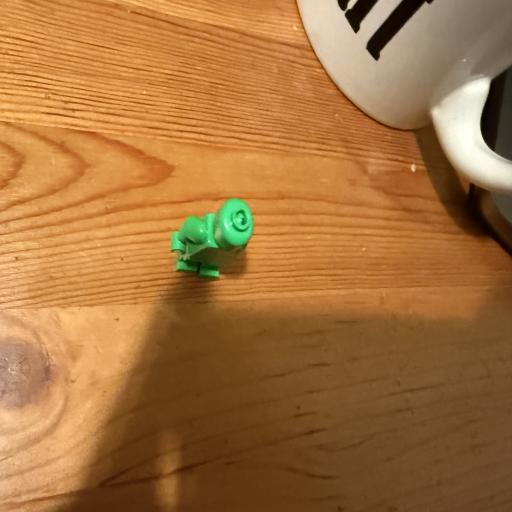Minifig: (171, 199, 254, 278)
